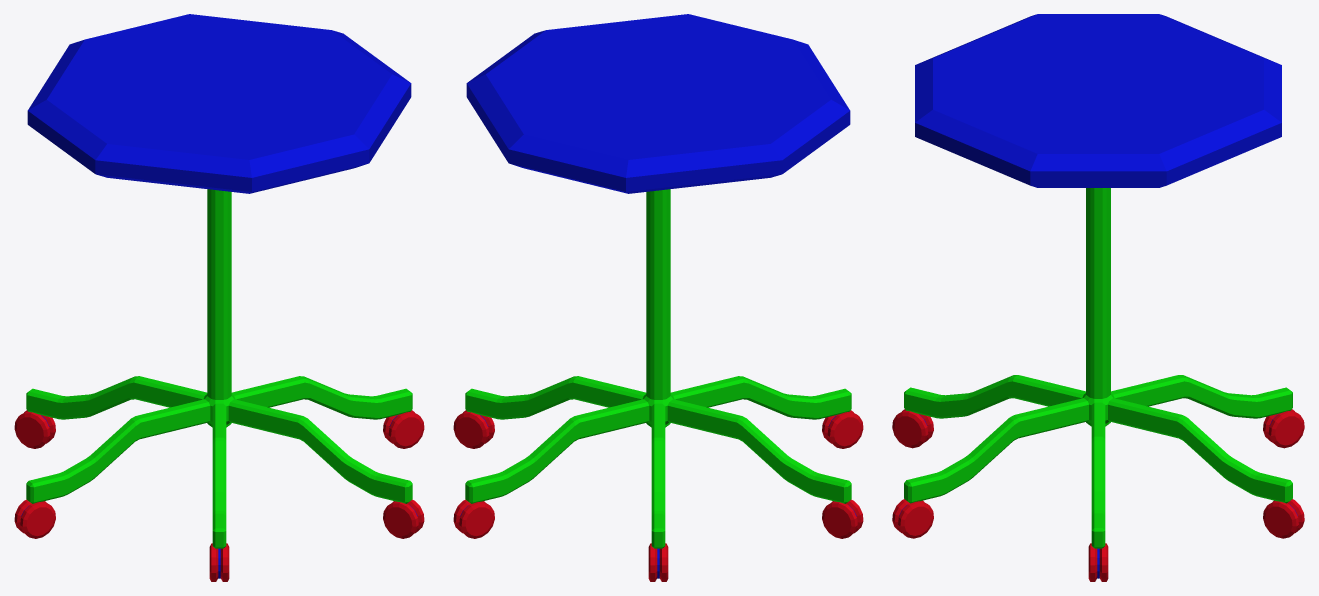
The model's file is Stool.fbx.
3 views of the same model, side by side, from view 1: azimuth 30°, elevation 25°; view 2: azimuth 150°, elevation 25°; view 3: azimuth 270°, elevation 25° (orthographic).
Visible parts, largest first — view 1: Wheel; view 2: Wheel; view 3: Wheel.
Part boxes in pixels (<box>): Wheel: <box>14,14,424,581</box>; Wheel: <box>453,14,863,581</box>; Wheel: <box>892,14,1304,581</box>.
Size of the model in its own units: 76.36 by 73.21 by 67.46.
